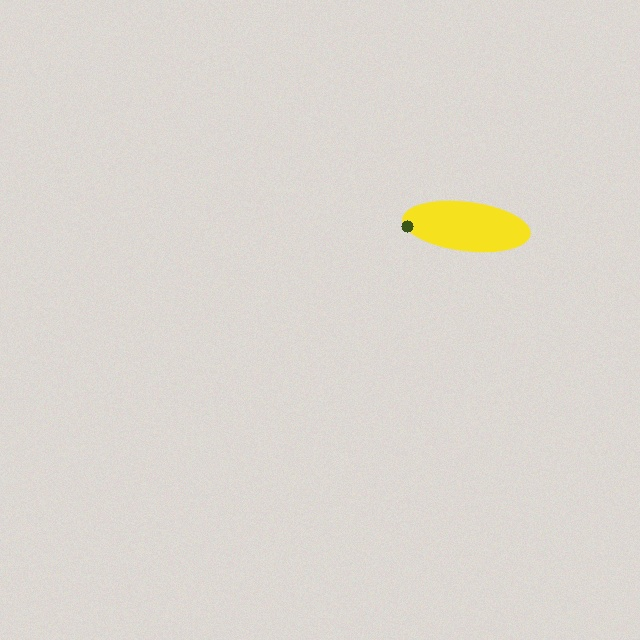Fresh banana: (399, 196, 533, 256)
